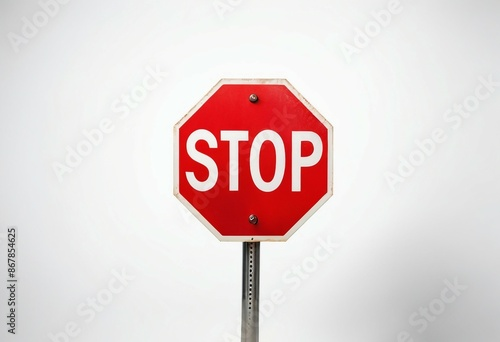StopSign: (173, 78, 333, 241)
